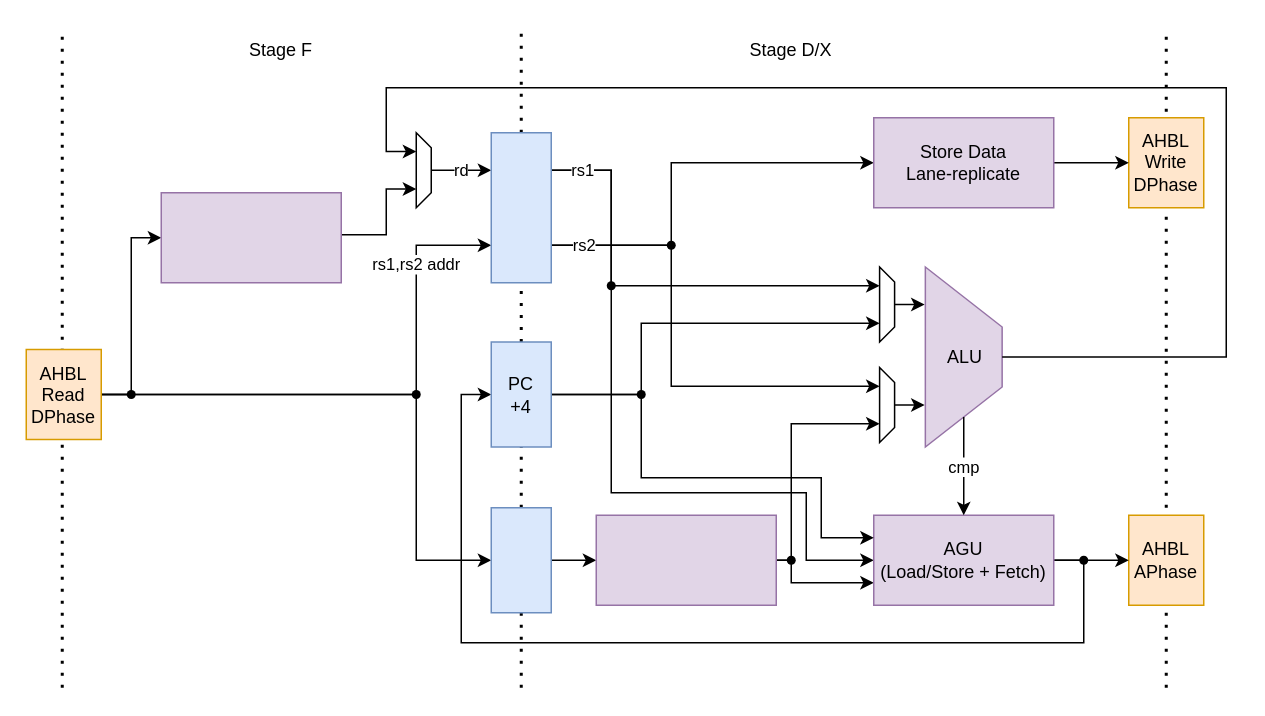
The diagram is 1265 pixels wide and 716 high, and some of its shapes have lost their labels. Each missing label, with the centre of its shape:
CIR: point (520, 559)
Immediate Unpack: point (685, 559)
Load Data Pick + Sign-extend: point (250, 237)
Regs 1W 2R: point (520, 207)
